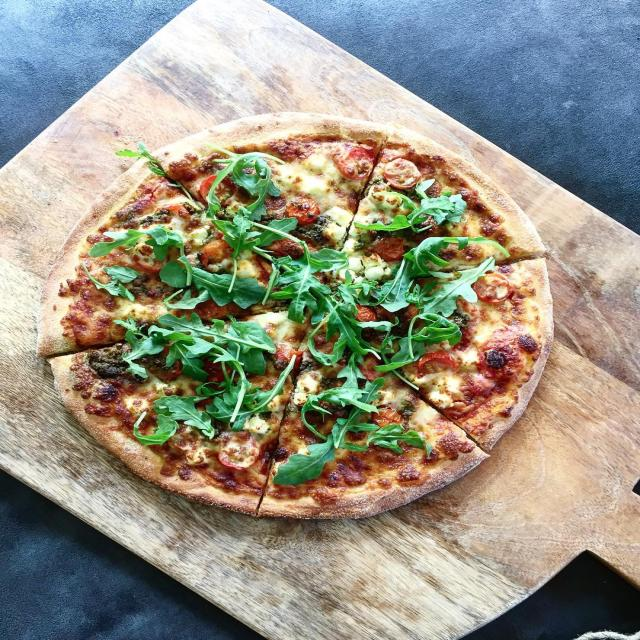pizza: (39, 114, 553, 517)
tomatoes: (219, 432, 259, 469), (334, 143, 374, 180), (383, 158, 420, 190), (416, 351, 458, 377), (286, 196, 320, 225), (200, 239, 233, 268), (372, 236, 405, 262), (274, 344, 303, 370), (358, 354, 384, 381), (372, 408, 403, 428), (357, 305, 378, 323)
